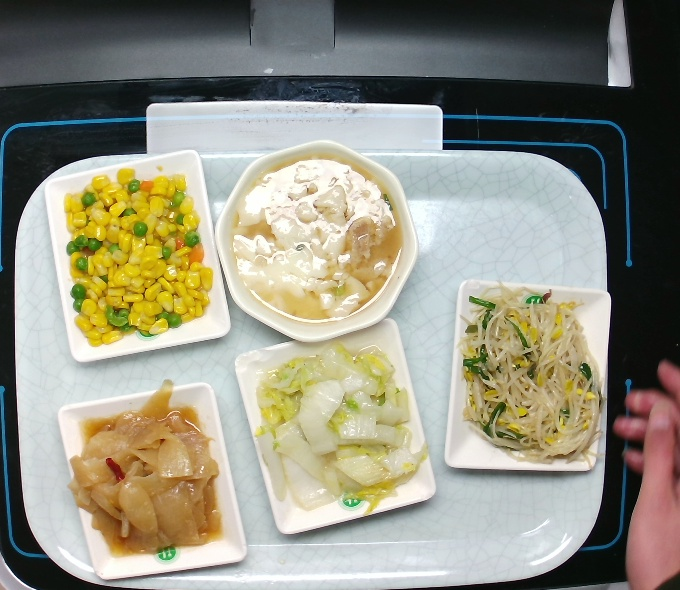wcq-DaBaiCai: (249, 337, 435, 522)
wcq-DongGua: (64, 375, 232, 563)
wcq-DouYa: (451, 274, 612, 477)
wcq-ShuiZhengDan: (219, 146, 409, 331)
wcq-TianMiTianDou: (59, 163, 218, 350)
